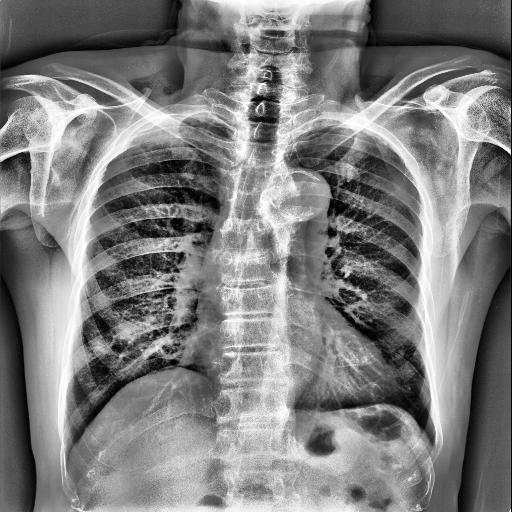0- Aortic enlargement: (262, 165, 330, 240), (260, 166, 332, 226), (267, 168, 332, 222)
11- Pleural thickening: (334, 124, 402, 160), (130, 112, 229, 136)
2- Calcification: (290, 170, 320, 182)
3- Cardiomegaly: (194, 325, 400, 408), (196, 328, 392, 408)
